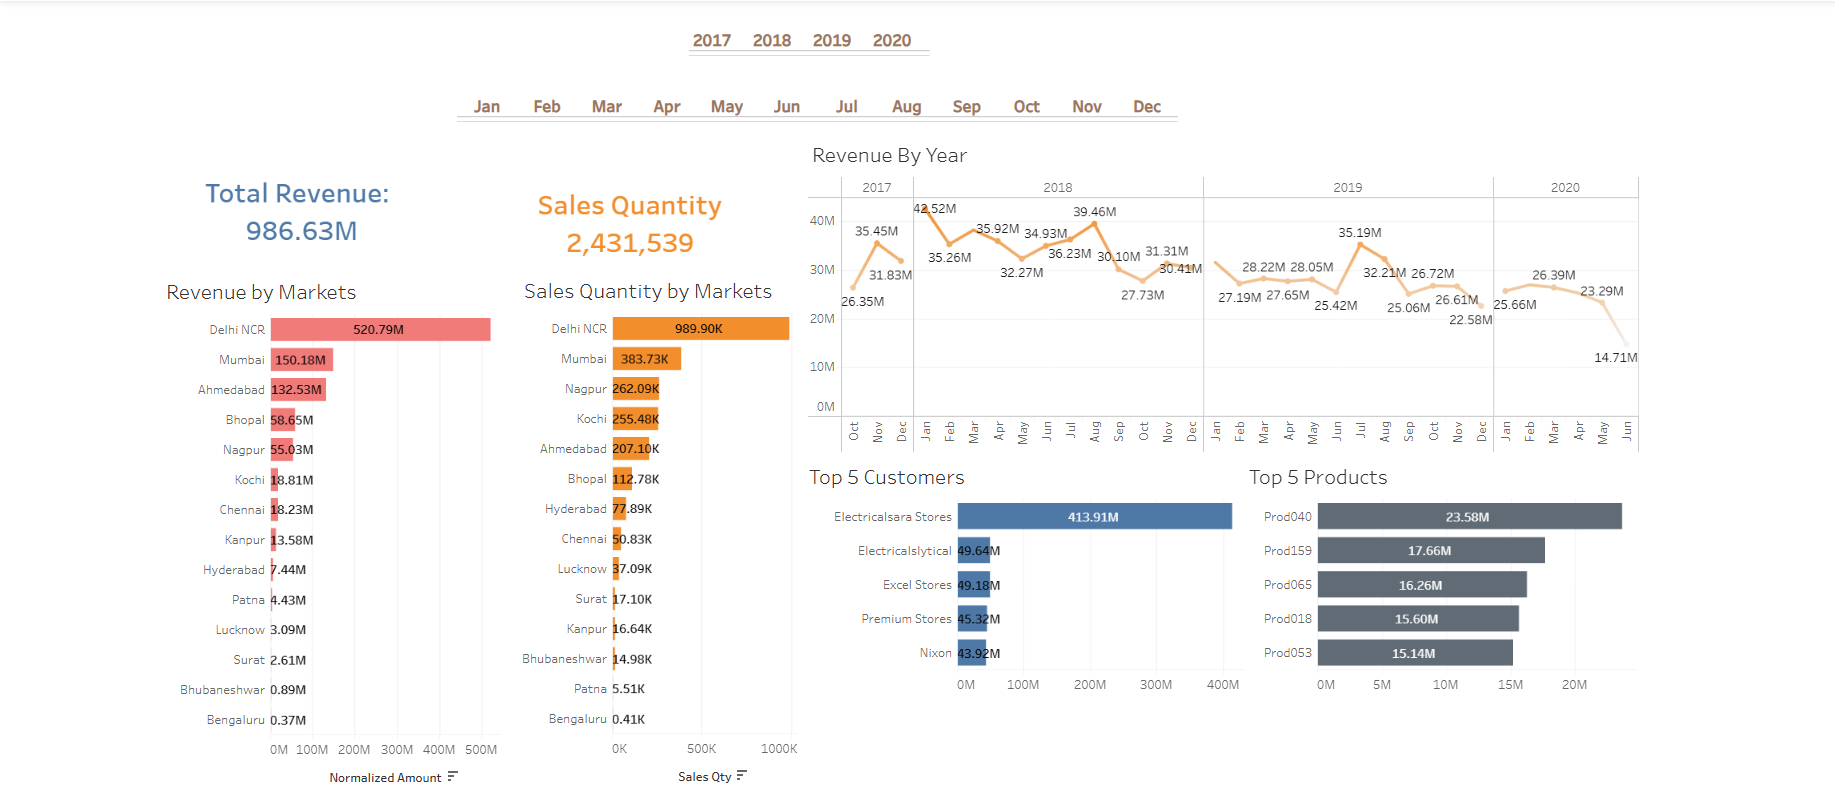

What the dashboard file says about the page in this screenshot:
{"tool":"tableau","page":{"name":"Dashboard 1","canvas":[1600,900],"ordinal":0},"visuals":[{"type":"worksheet","title":"Year","mark":"Automatic","cols":["cy_date"],"box":[564.3,23,281.6,60]},{"type":"worksheet","title":"Month","mark":"Automatic","cols":["cy_date"],"box":[331.7,62,809.6,101]},{"type":"worksheet","title":"Revenue By Year","mark":"Automatic","rows":["Calculation_2171837435428864"],"cols":["cy_date","cy_date"],"box":[683.3,143,831.1,319]},{"type":"worksheet","title":"Revenue","mark":"Automatic","box":[75.3,166,283.3,121]},{"type":"worksheet","title":"Quantity","mark":"Automatic","box":[405.6,178,288,101]},{"type":"worksheet","title":"Sales Quantity by Markets","mark":"Automatic","rows":["markets_name"],"cols":["sales_qty"],"box":[395.3,279,277.6,539]},{"type":"worksheet","title":"Revenue by Markets","mark":"Automatic","rows":["markets_name"],"cols":["Calculation_2171837435428864"],"box":[36.7,280,338.8,548]},{"type":"worksheet","title":"Top 5 Customers","mark":"Automatic","rows":["custmer_name"],"cols":["Calculation_2171837435428864"],"box":[679.5,465,441.4,266]},{"type":"worksheet","title":"Top 5 Products","mark":"Automatic","rows":["product_code (products)"],"cols":["Calculation_2171837435428864"],"box":[1120,465,392.5,267]}]}

Visuals, with their boxes on the page's 1600x900 design canvas (x1, y1, x2, y2). These are canvas units, not pixel positions in the 1835x802 screenshot, which may show the page scaled, cropped or inside an application window:
"Year" worksheet: (564, 23, 846, 83)
"Month" worksheet: (332, 62, 1141, 163)
"Revenue By Year" worksheet: (683, 143, 1514, 462)
"Revenue" worksheet: (75, 166, 359, 287)
"Quantity" worksheet: (406, 178, 694, 279)
"Sales Quantity by Markets" worksheet: (395, 279, 673, 818)
"Revenue by Markets" worksheet: (37, 280, 376, 828)
"Top 5 Customers" worksheet: (680, 465, 1121, 731)
"Top 5 Products" worksheet: (1120, 465, 1512, 732)
